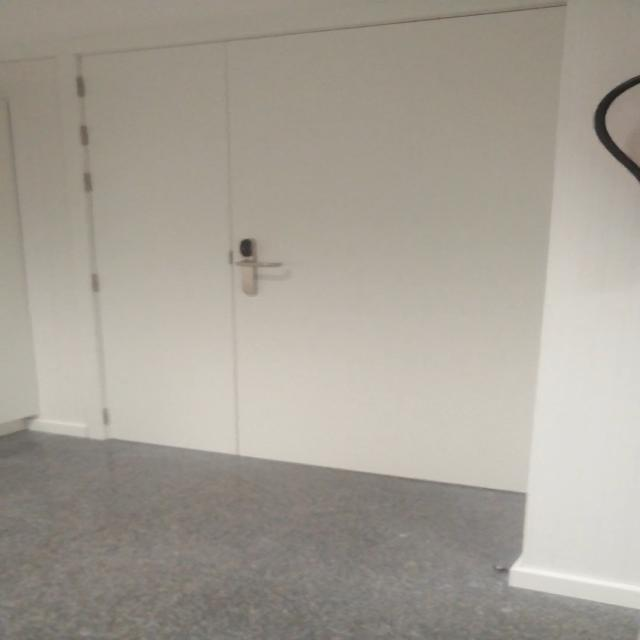door_handle: (229, 257, 287, 270)
